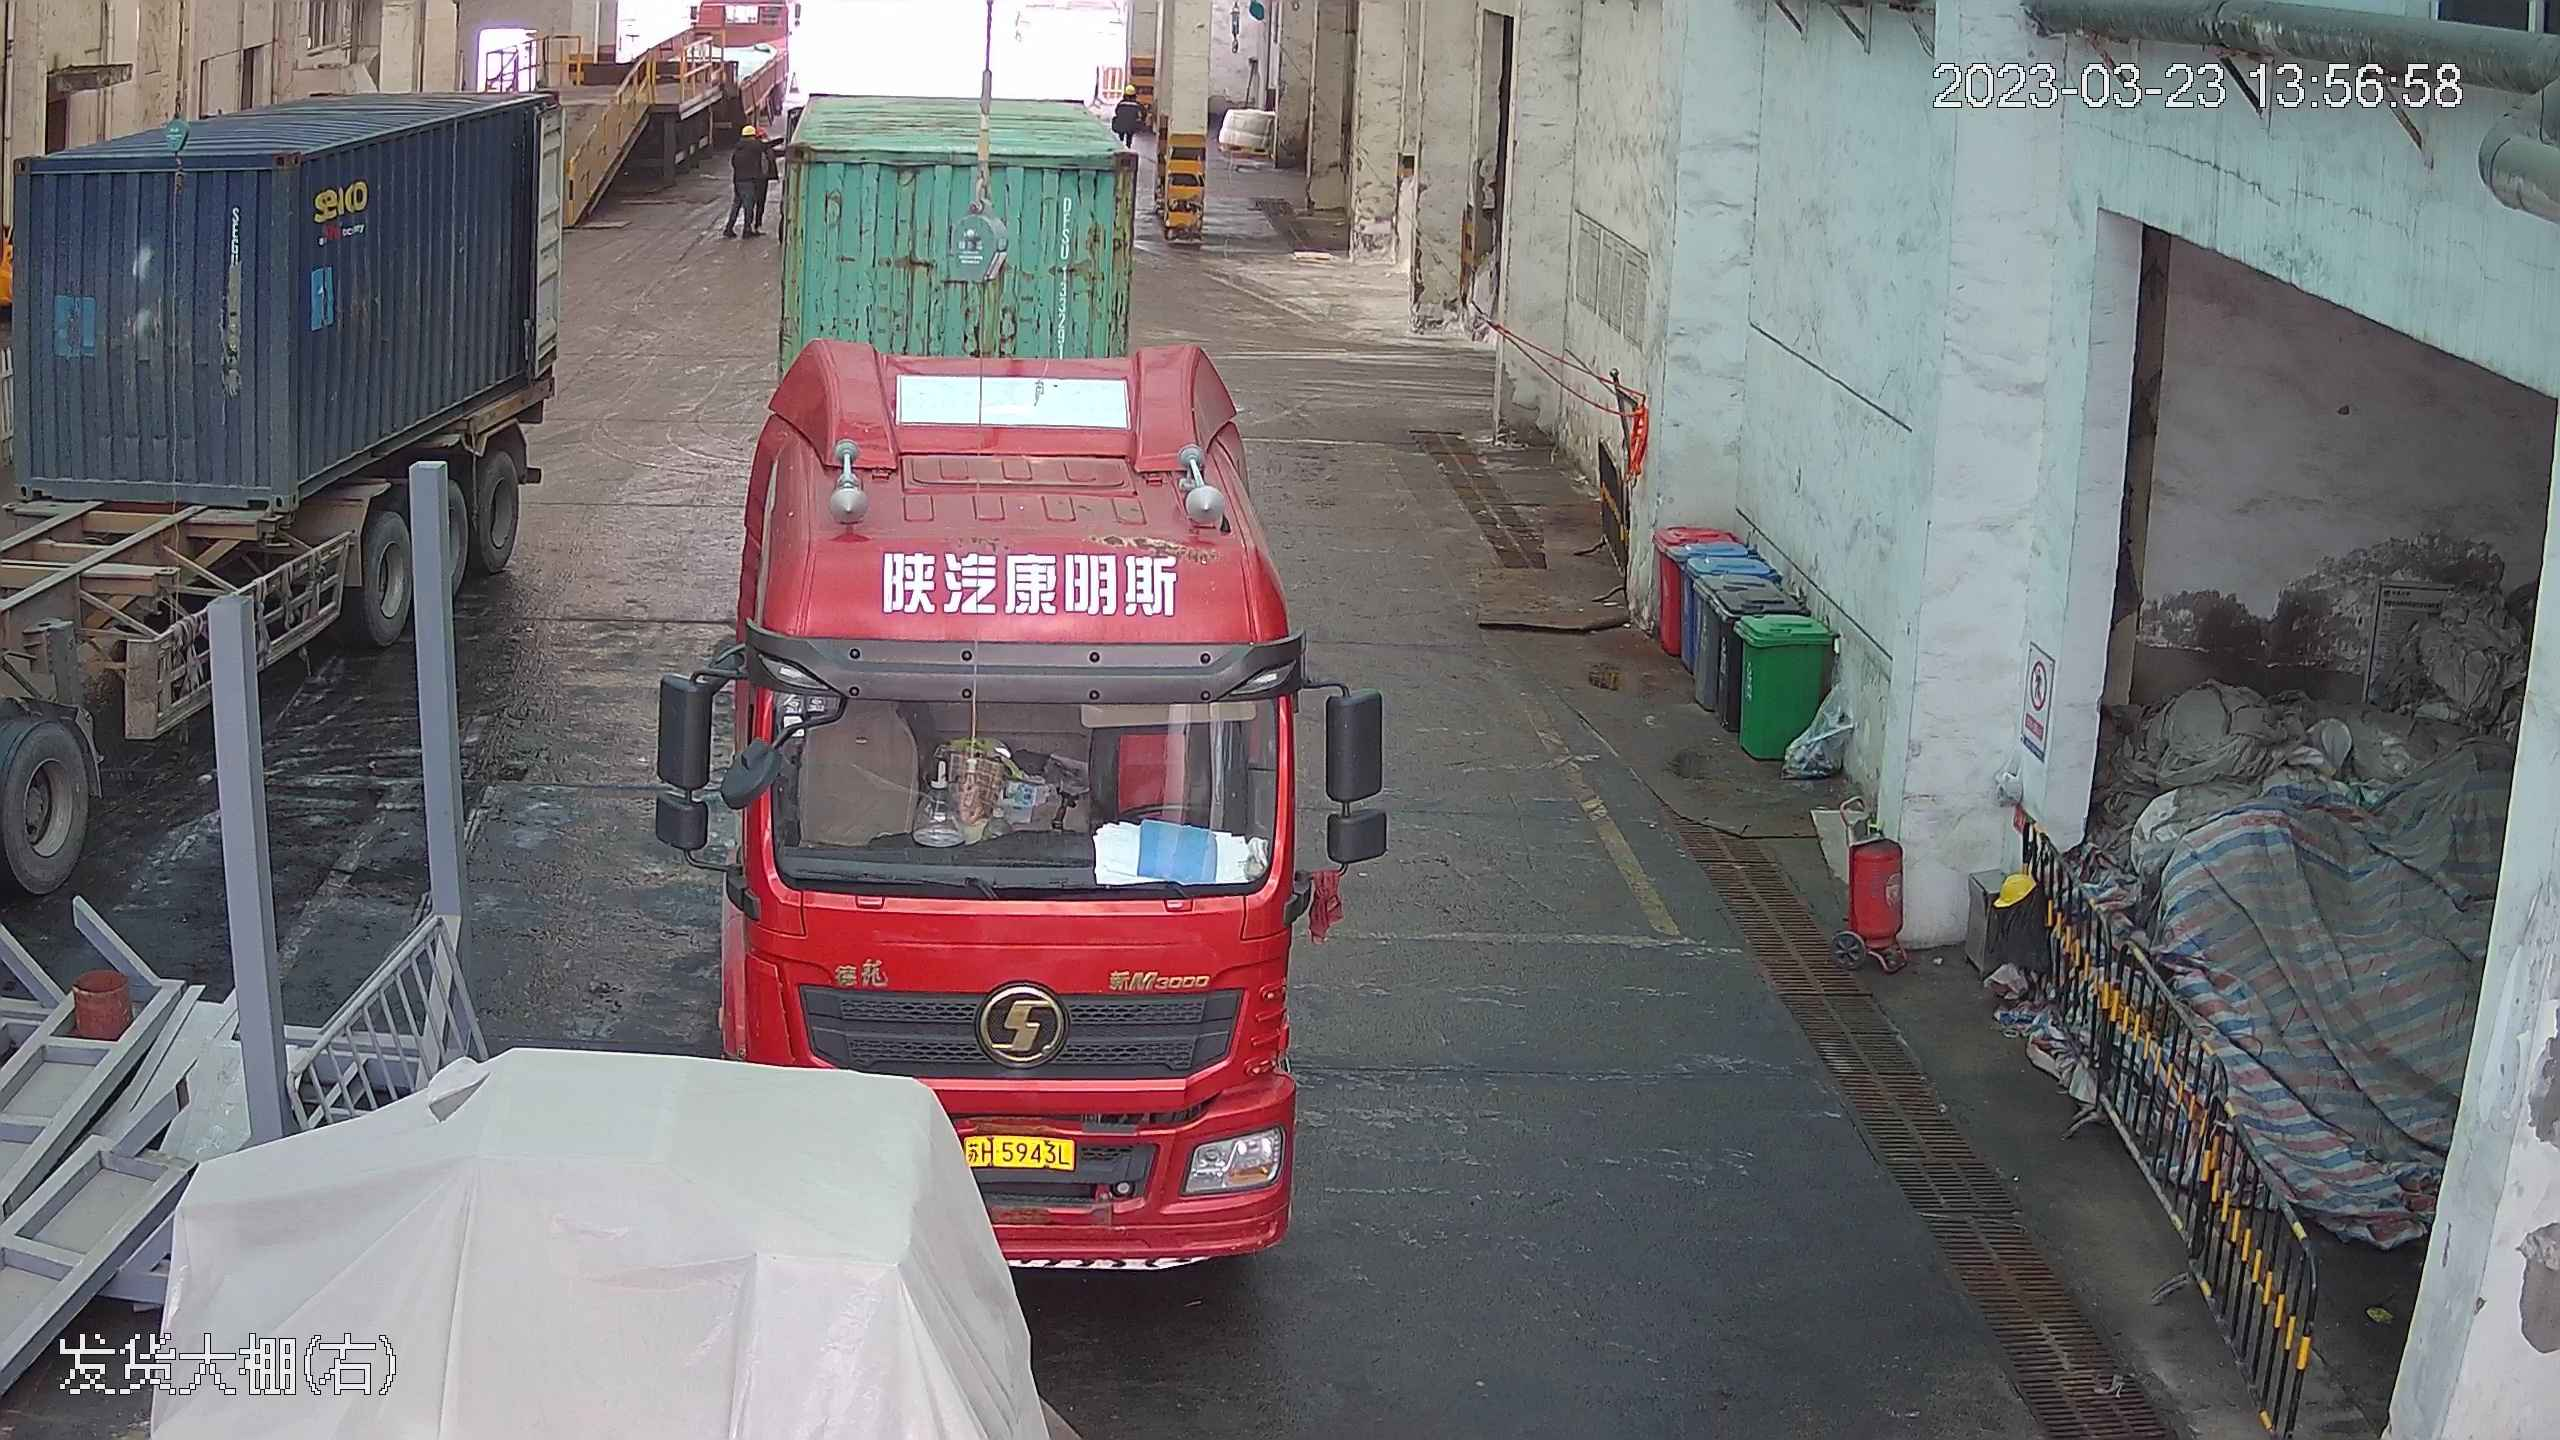head: (730, 116, 764, 160)
helmet: (740, 125, 755, 136)
people: (723, 107, 772, 244)
truck: (690, 38, 1333, 1248), (2, 20, 571, 1226)
